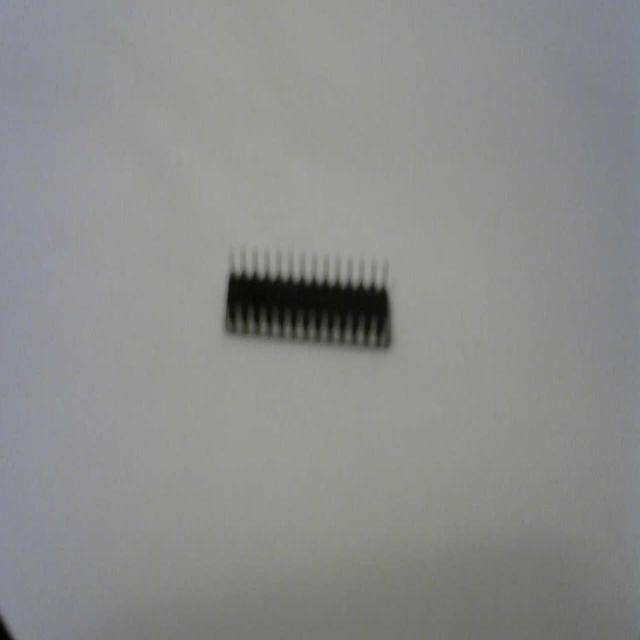atmega: (222, 242, 394, 354)
